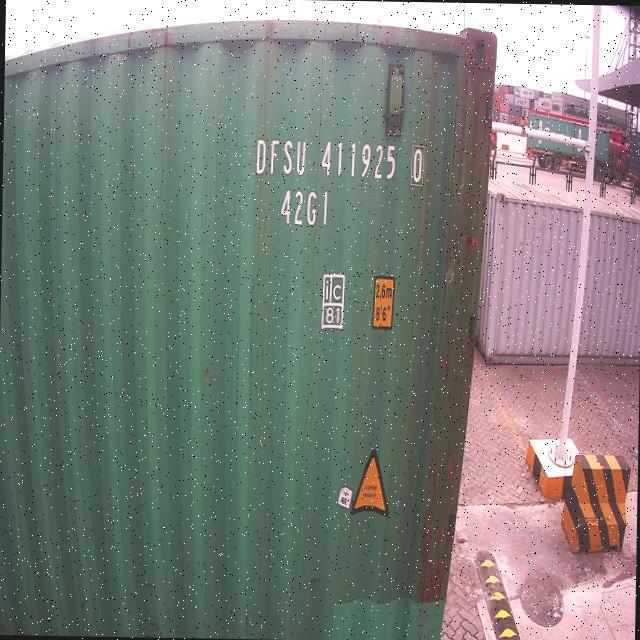le-tle-t-tletters: (248, 130, 438, 188)
